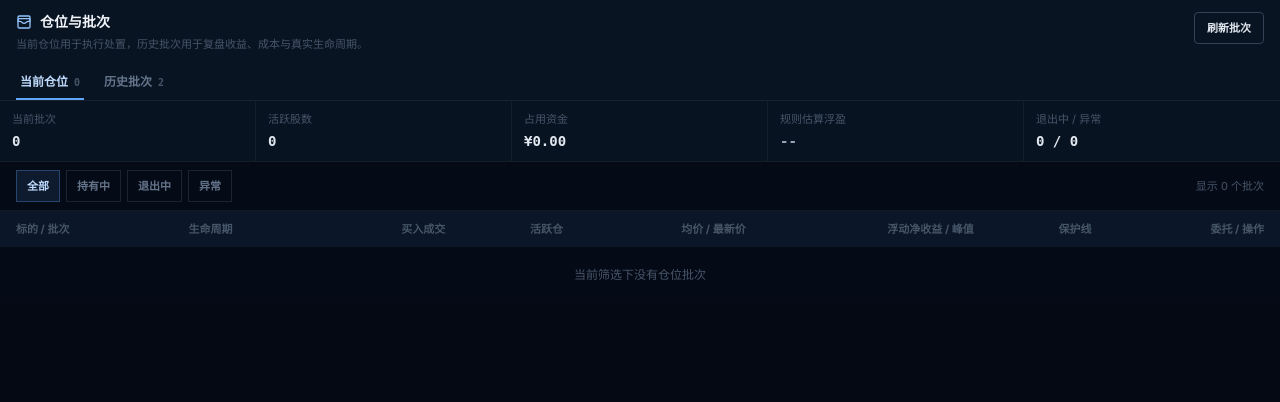
it: TTradePositionsView › filters history by keyword while keeping compact summary coverage truthful
Click the tab "历史批次2". click: (134, 82)
box: x1=100 y1=64 x2=168 y2=100
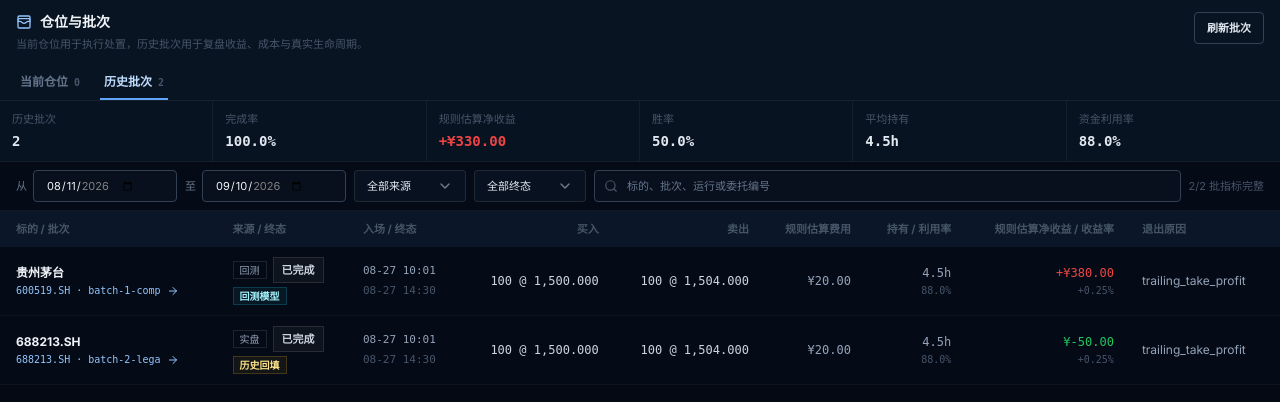
Type "688213" into the field with placeholder "标的、批次、运行或委托编号". click: (887, 186)
box: x1=594 y1=170 x2=1180 y2=202
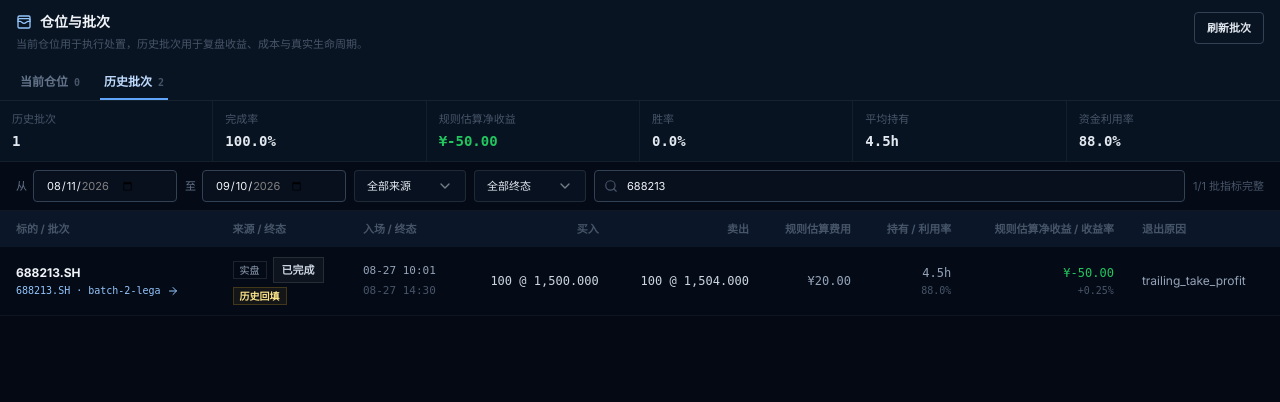
Now the text "688213.SH" is shown, box x1=16 y1=264 x2=80 y2=280
Now the text "历史回填" is shown, box x1=232 y1=287 x2=286 y2=305
Now the button "贵州茅台" is gone
